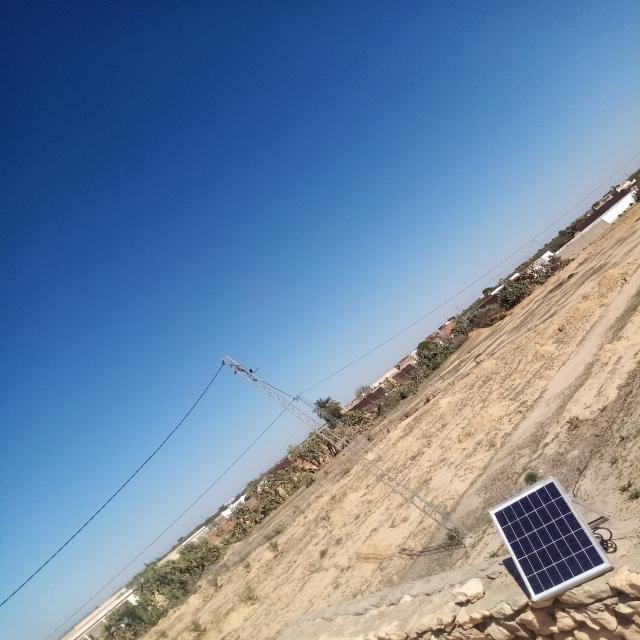no faulty: (489, 477, 611, 601)
